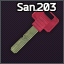Health Resort west wing room 203 key: (0, 0, 64, 64)
